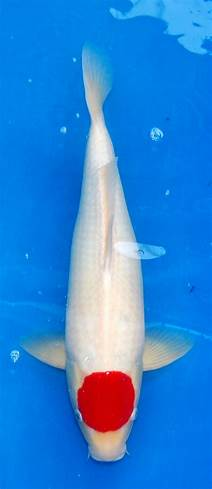sun: (22, 39, 193, 462)
